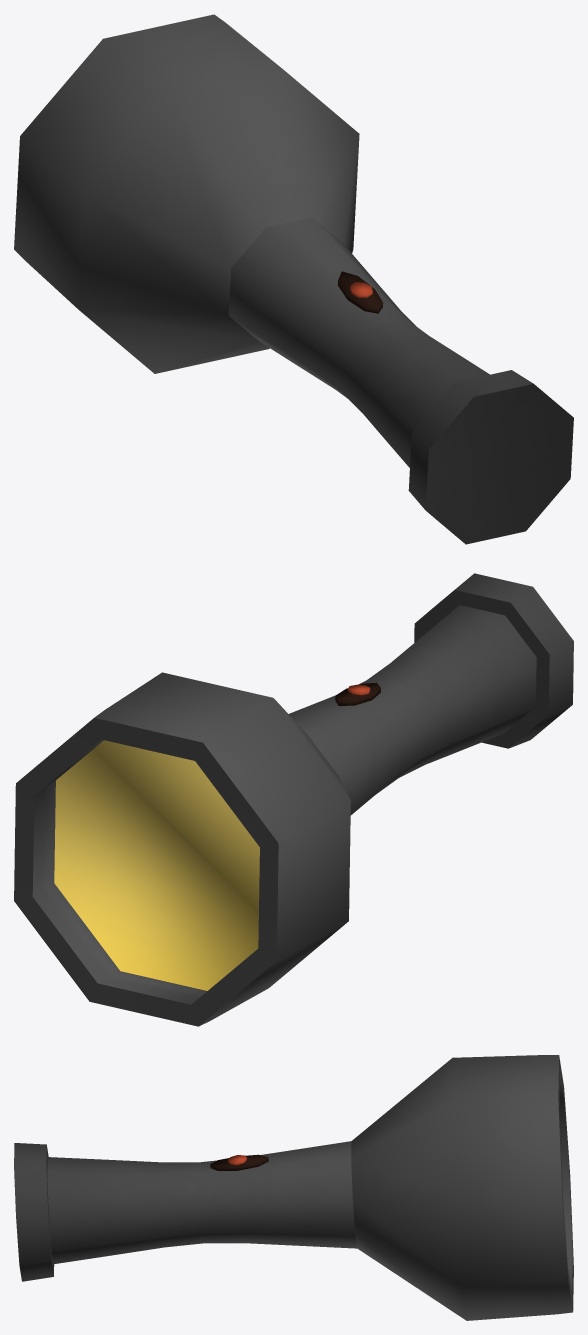
File: flashlight.obj
3 renders of one model, top to bottom at view 1: azimuth 30°, elevation 25°; view 2: azimuth 150°, elevation 25°; view 3: azimuth 270°, elevation 25°, orthographic. The views are drawn at different scales.
Parts seen in each view (by area): view 1: flashlight; view 2: flashlight; view 3: flashlight.
Part boxes in pixels (left/top/right/bottom): flashlight: left=14, top=14, right=573, bottom=544; flashlight: left=14, top=573, right=573, bottom=1026; flashlight: left=14, top=1055, right=573, bottom=1320.
Size of the model in its own units: 0.1174 by 0.119 by 0.2674.
